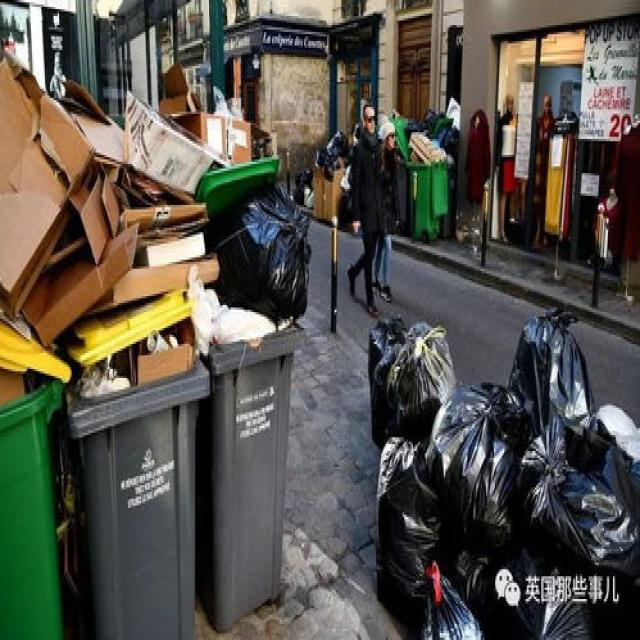garbage: (367, 310, 639, 638)
overflow: (63, 73, 209, 638), (195, 104, 309, 628), (0, 48, 62, 638), (406, 132, 446, 239)
